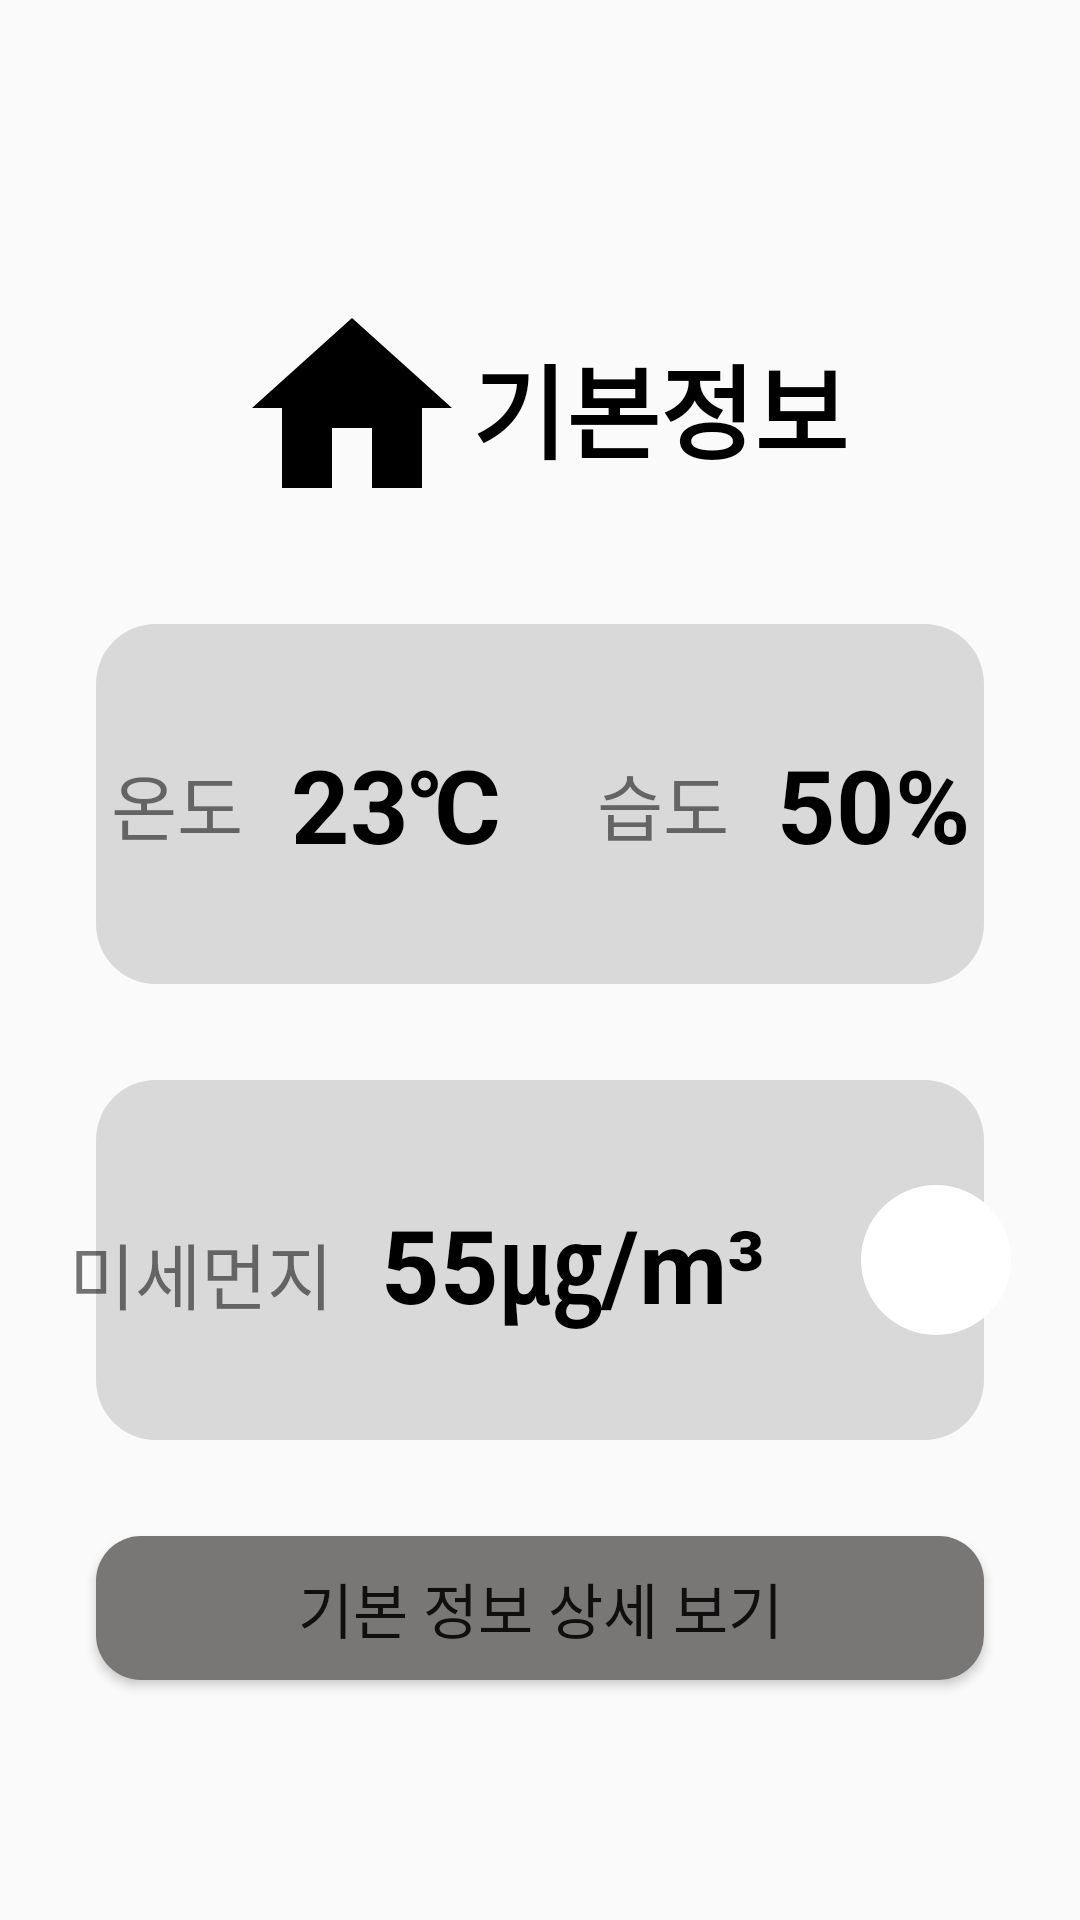

Point at icon controls on the screen. Image size 1080px x 1920px, points as (x,y).
home: (352,403)
